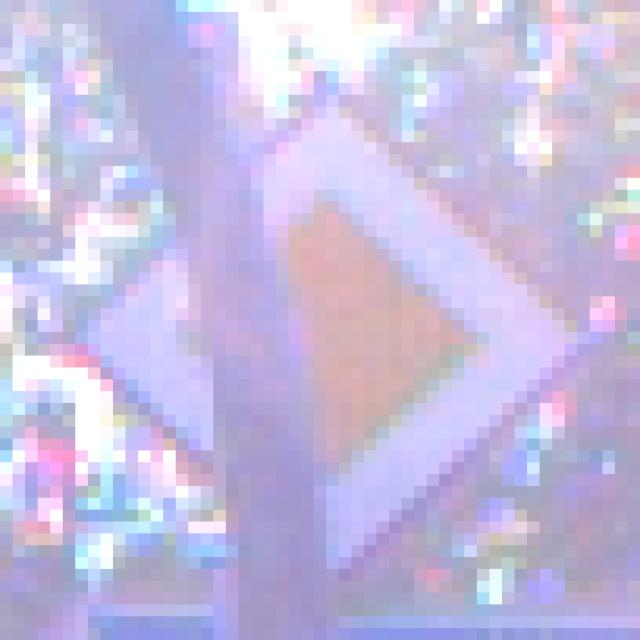Main Road: (77, 60, 579, 570)
